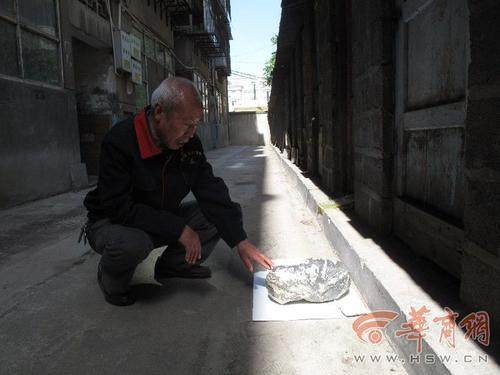bending: (66, 75, 279, 300)
